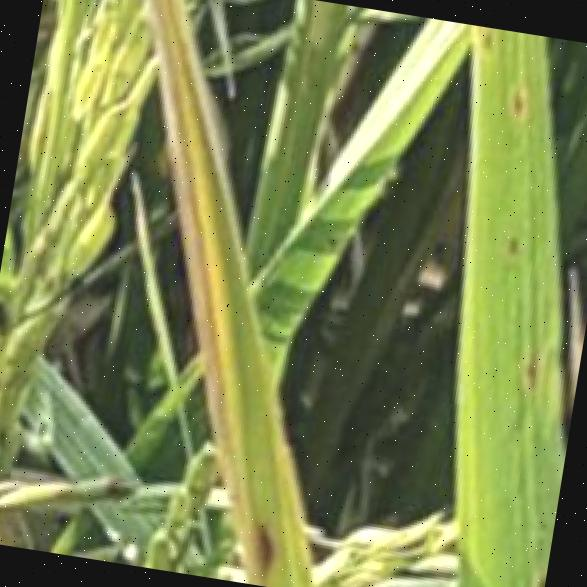Bacteria_Leaf_Blight: (50, 0, 364, 510)
